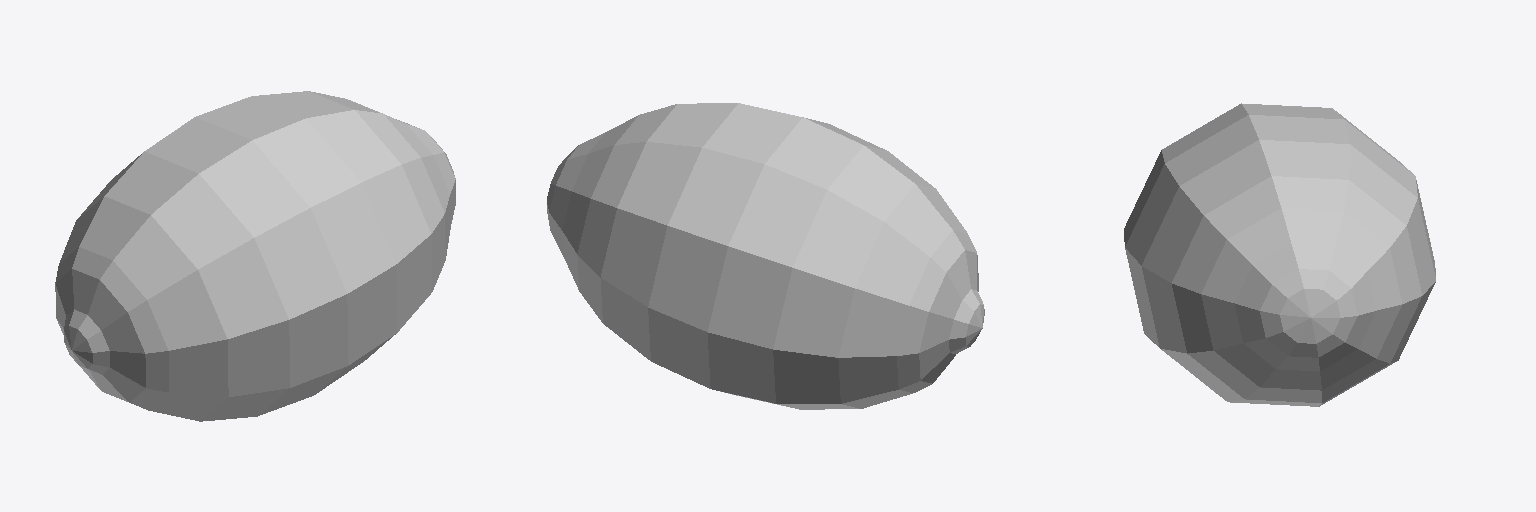
Rendered from Lemon2.obj.
3 views of the same model, side by side, from view 1: azimuth 30°, elevation 25°; view 2: azimuth 150°, elevation 25°; view 3: azimuth 270°, elevation 25° (orthographic).
Visible parts, largest first — view 1: Inst3D24_RefRep.205; view 2: Inst3D24_RefRep.205; view 3: Inst3D24_RefRep.205.
Boxes of the visible parts, box(x1,y1,x2,y2) form: Inst3D24_RefRep.205: box(55, 91, 455, 421); Inst3D24_RefRep.205: box(547, 103, 984, 409); Inst3D24_RefRep.205: box(1124, 103, 1435, 406).
Size of the model in its own units: 247 by 160 by 168.